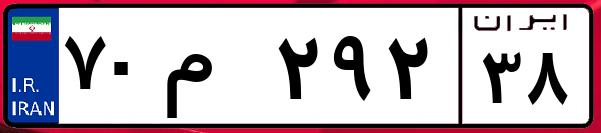0: (110, 28, 158, 98)
2: (270, 28, 330, 110), (385, 28, 445, 110)
3: (475, 38, 525, 113)
7: (57, 26, 110, 100)
8: (525, 38, 570, 115)
9: (330, 28, 385, 110)
م: (158, 20, 270, 120)
